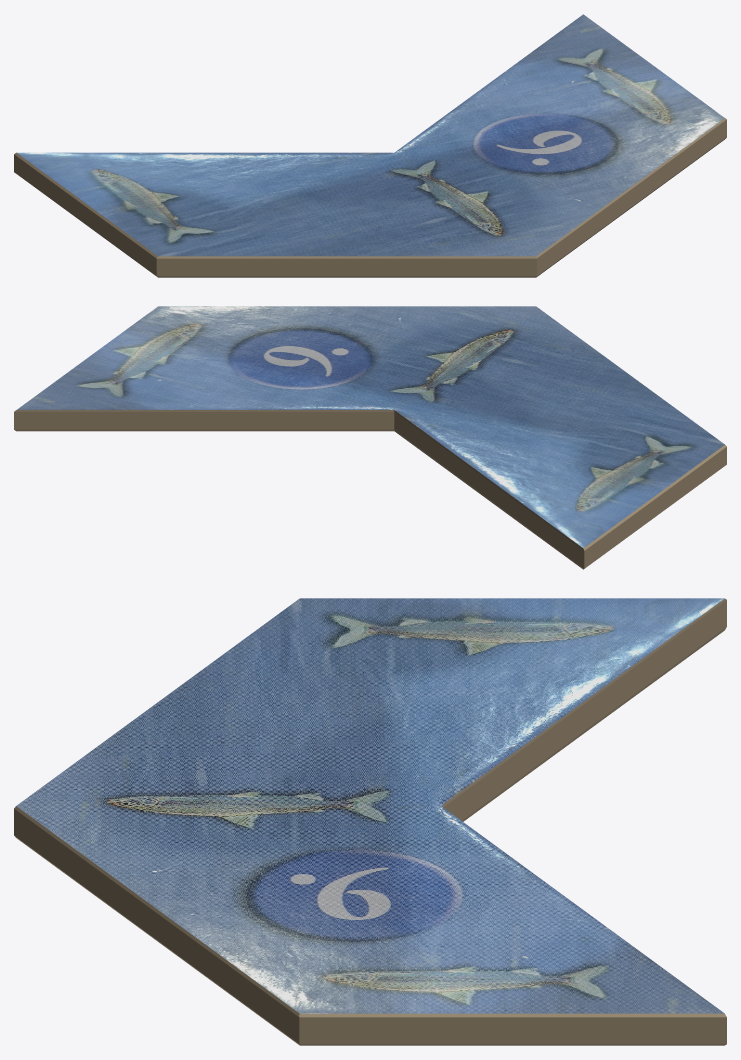
File: ground-9.fbx
3 views of the same model, one above another, from view 1: azimuth 30°, elevation 25°; view 2: azimuth 150°, elevation 25°; view 3: azimuth 270°, elevation 25° (orthographic). The views are drawn at different scales.
Parts seen in each view (by area): view 1: ground-9; view 2: ground-9; view 3: ground-9.
Boxes of the visible parts, x1,y1,x2,y2 form: ground-9: [14, 14, 726, 277]; ground-9: [14, 306, 726, 569]; ground-9: [14, 598, 726, 1045].
Size of the model in its own units: 4.2 by 0.15 by 3.03.
Materials: 2 (1 with a texture image).
